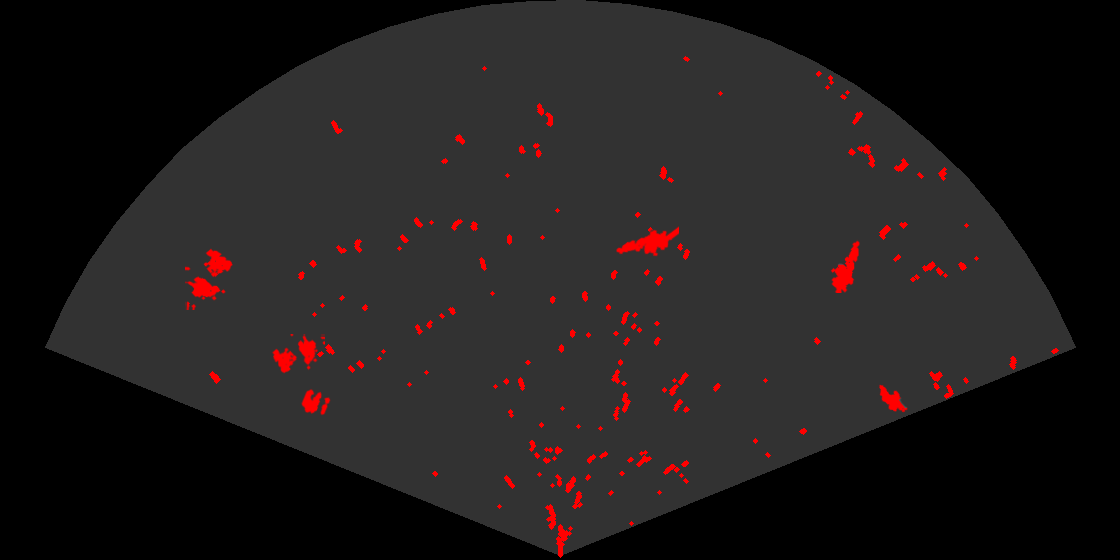AUV: (877, 383, 909, 414)
ball: (300, 387, 332, 417)
cage: (185, 247, 234, 310), (270, 334, 325, 375)
frogman: (615, 225, 679, 258), (829, 239, 861, 293)
